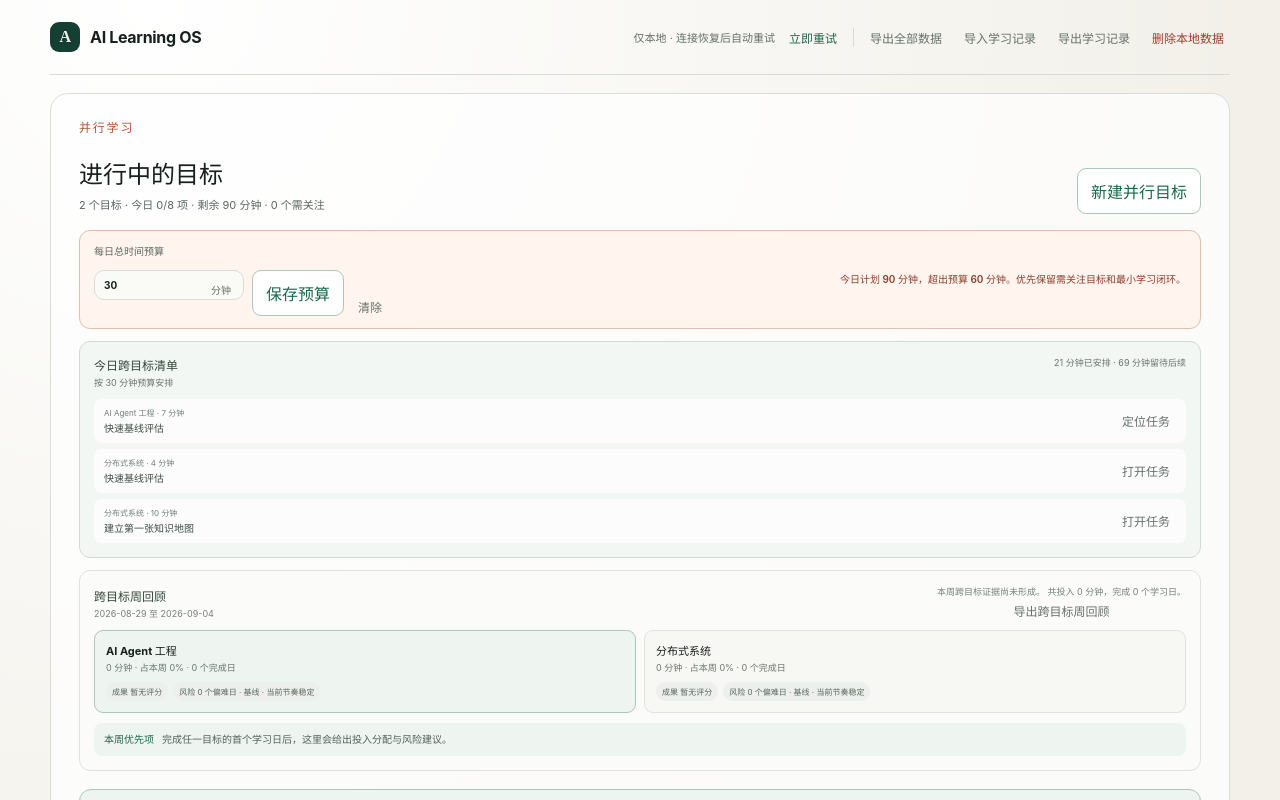
Test: learning data controls › turns the cross-goal budget into an actionable daily agenda
Expected: the text "按 30 分钟预算安排" is shown, [94, 376, 173, 388]
Expected: the text "21 分钟已安排 · 69 分钟留待后续" is shown, [1054, 356, 1186, 368]
Click the 1st button "打开任务". click: point(1146, 470)
box: [1116, 461, 1176, 480]
(page scrolled)
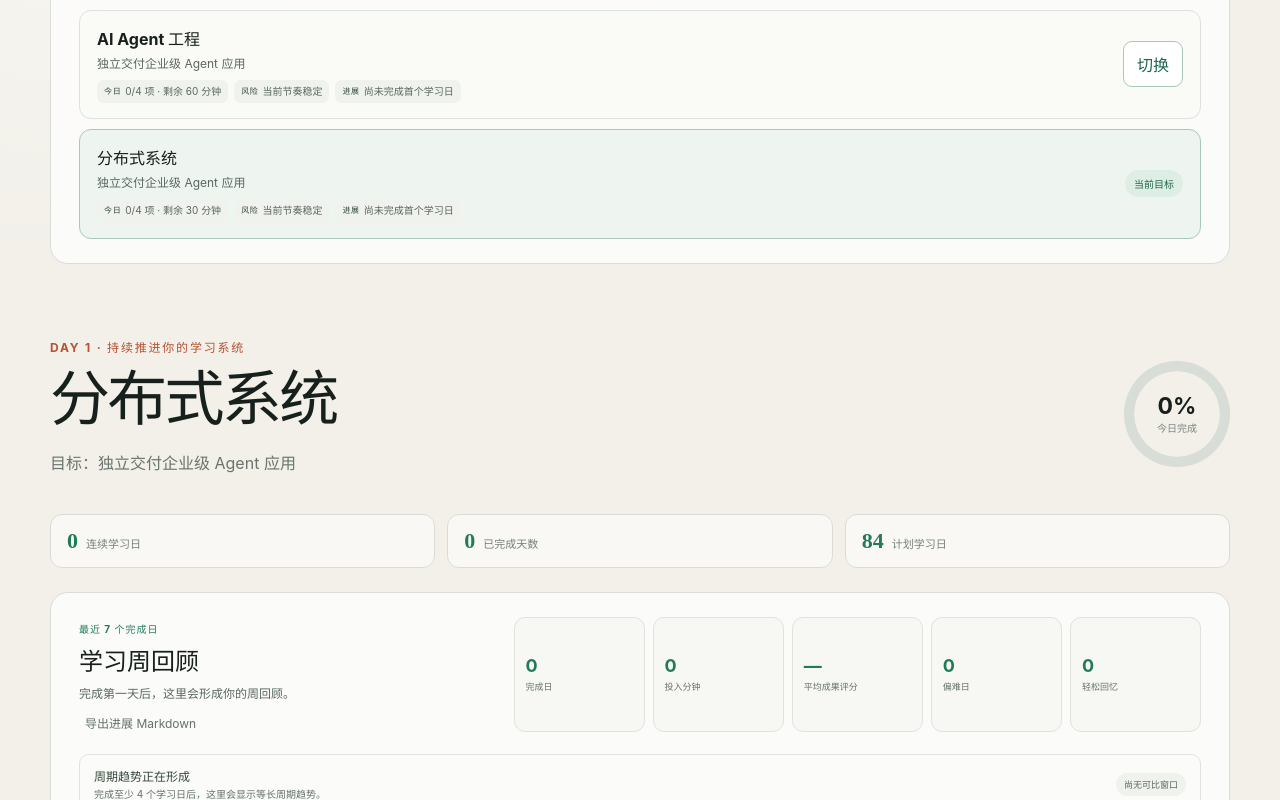
Expected: the heading "分布式系统" is shown, [50, 366, 336, 434]
